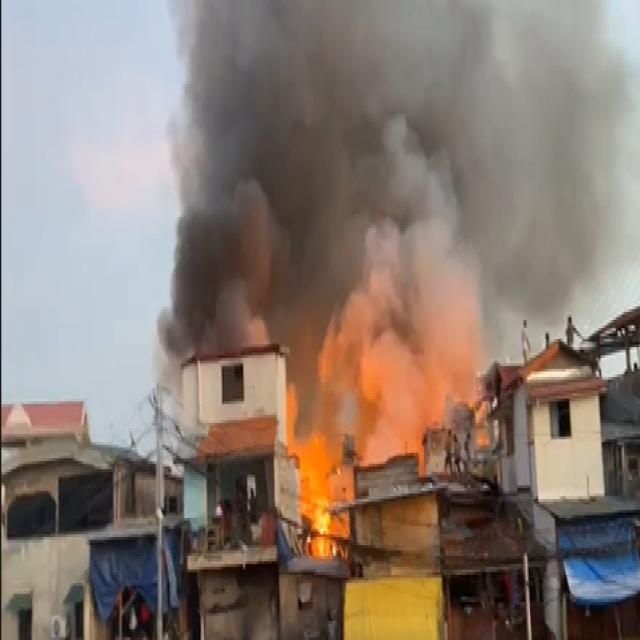Fire: (300, 423, 336, 555)
Smoke: (324, 0, 638, 309), (164, 7, 352, 324), (338, 280, 434, 440)
